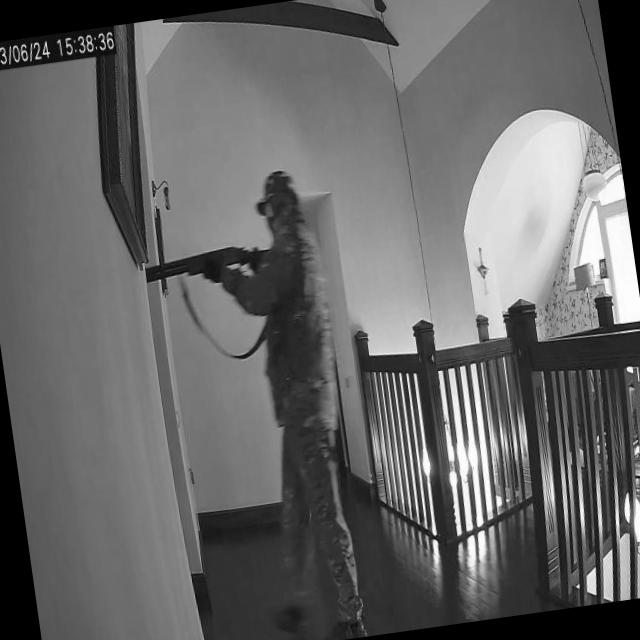gun: (146, 238, 276, 288)
person with a gun: (136, 165, 373, 640)
